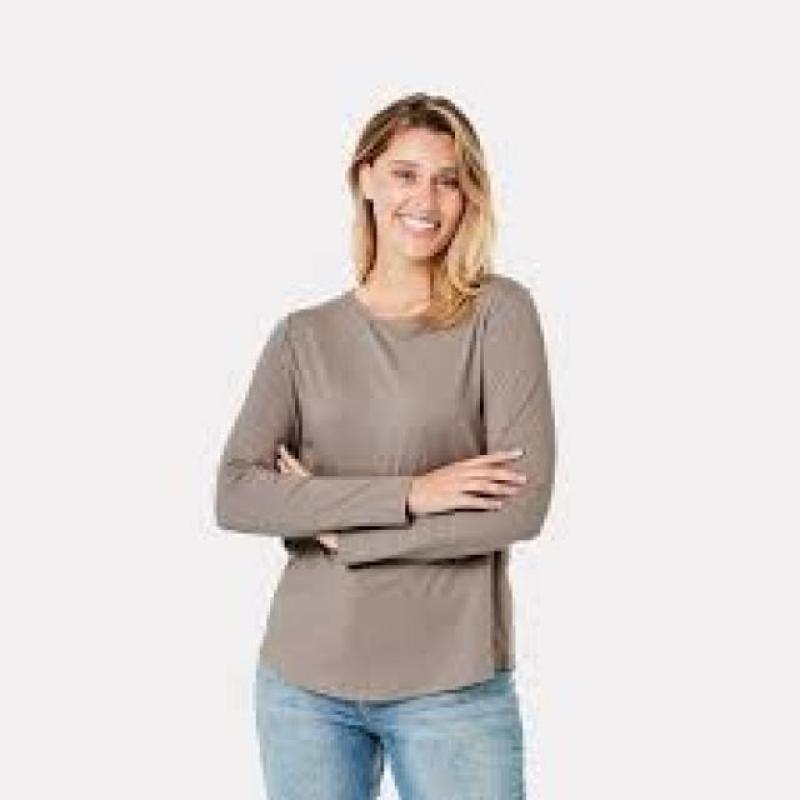long sleeve shirt: (211, 270, 560, 699)
trousers: (249, 654, 530, 800)
